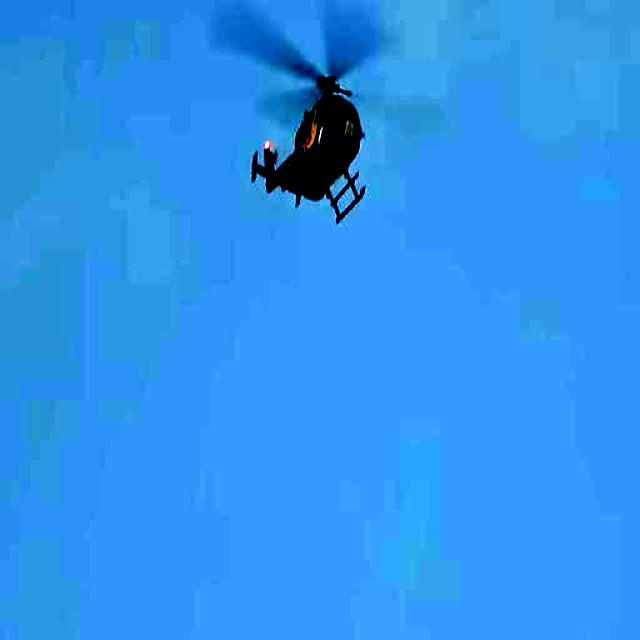drone: (230, 0, 389, 230)
